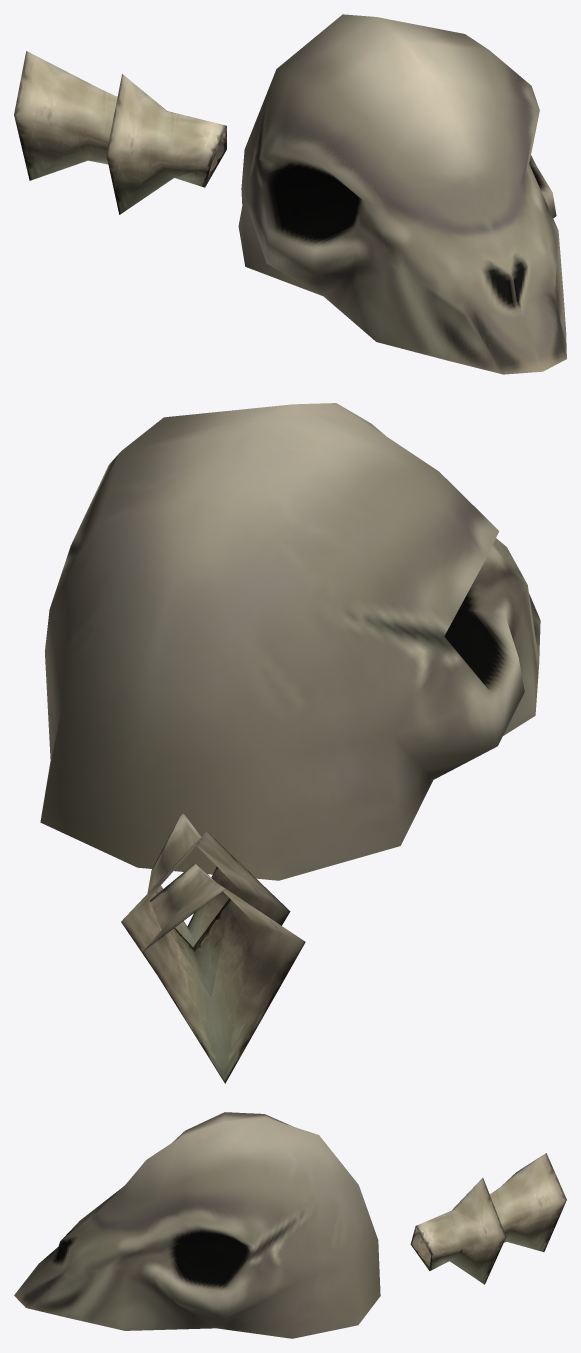
The model's file is H_Maze_gutou02.FBX.
3 views of the same model, one above another, from view 1: azimuth 30°, elevation 25°; view 2: azimuth 150°, elevation 25°; view 3: azimuth 270°, elevation 25° (orthographic). The views are drawn at different scales.
Parts seen in each view (by area): view 1: gutou02; view 2: gutou02; view 3: gutou02.
Part boxes in pixels (box(x1,y1,x2,y2)): gutou02: box(14, 14, 566, 374); gutou02: box(40, 403, 540, 1083); gutou02: box(14, 1112, 566, 1338).
Bounding box in the file's own units: 26.53 × 20.76 × 49.73.
